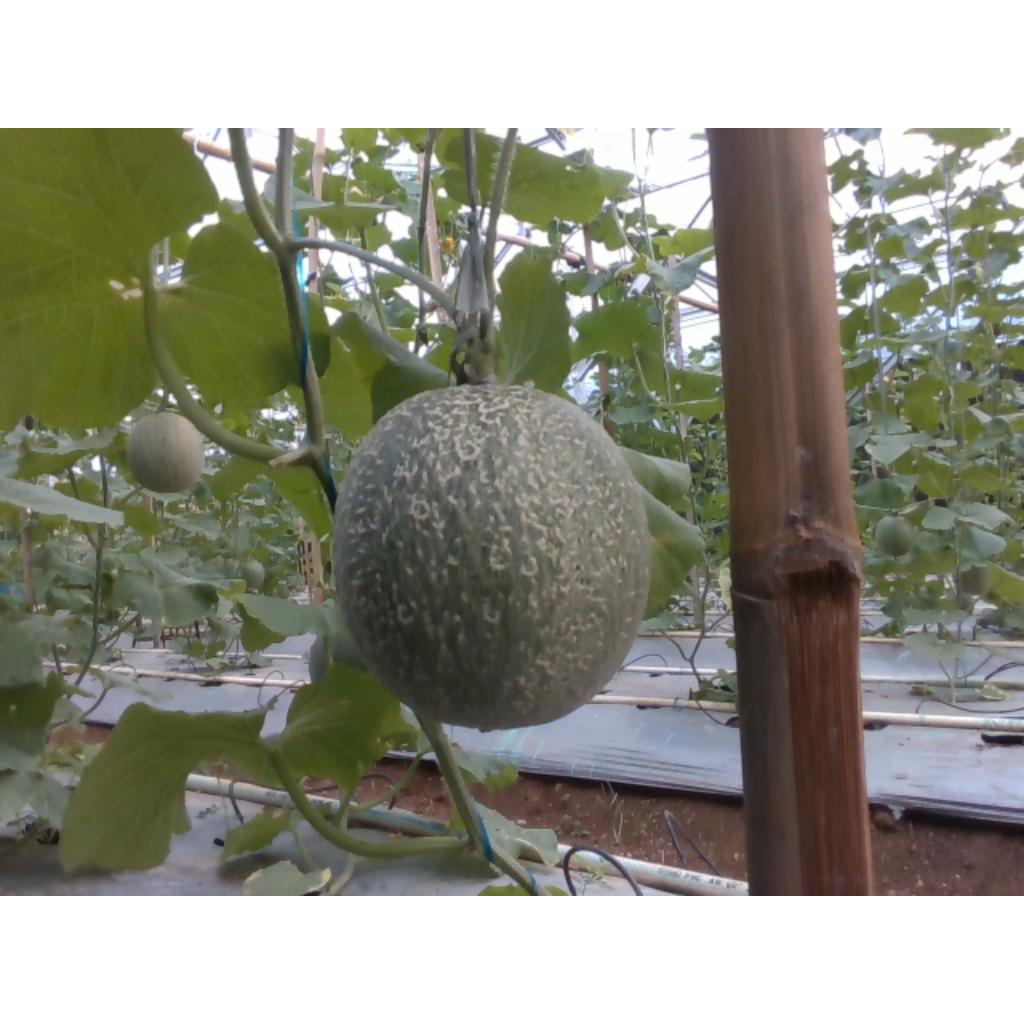melon: (334, 386, 651, 730)
